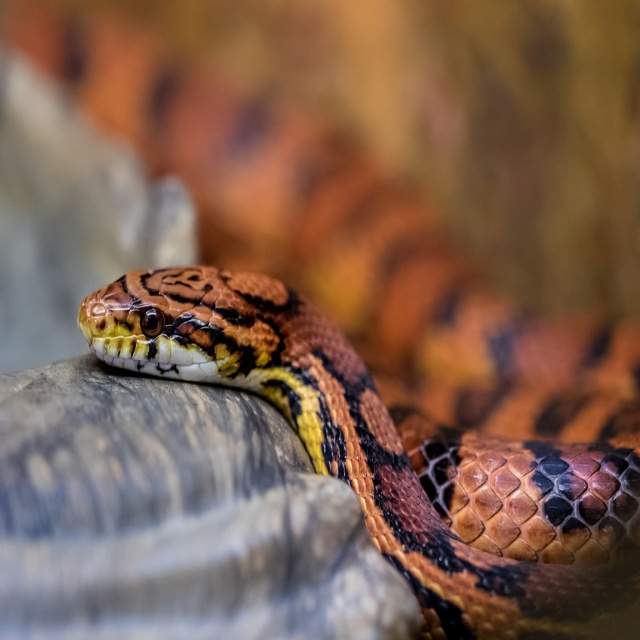Snake: (2, 1, 640, 636)
